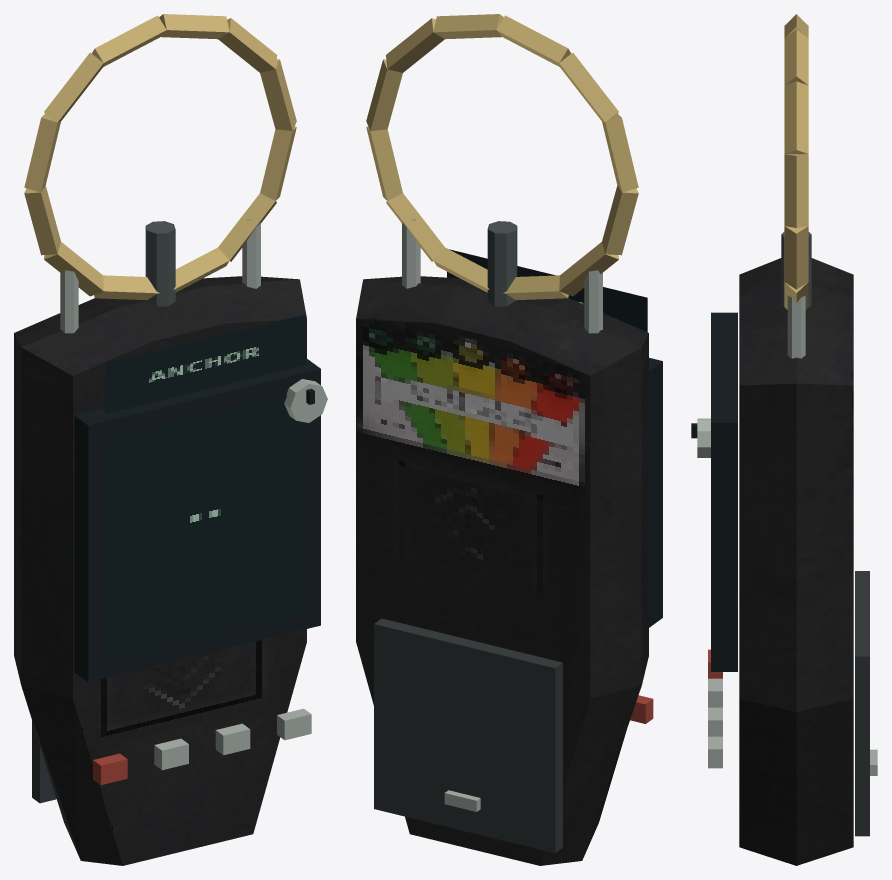
File: blender_ritual_anchor_meter_3.glb
3 views of the same model, side by side, from view 1: azimuth 30°, elevation 25°; view 2: azimuth 150°, elevation 25°; view 3: azimuth 270°, elevation 25° (orthographic). The views are drawn at different scales.
Parts seen in each view (by area): view 1: blender_ritual_anchor_meter_3; view 2: blender_ritual_anchor_meter_3; view 3: blender_ritual_anchor_meter_3.
Boxes of the visible parts, x1,y1,x2,y2 form: blender_ritual_anchor_meter_3: [14, 14, 327, 865]; blender_ritual_anchor_meter_3: [356, 14, 662, 865]; blender_ritual_anchor_meter_3: [691, 14, 877, 865].
Bounding box in the file's own units: 0.104 × 0.2949 × 0.062.
1 material, 1 textured.
